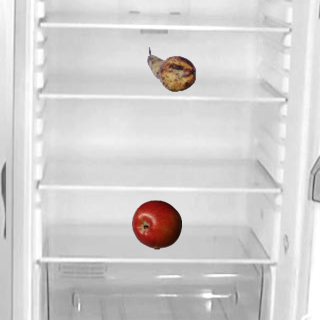Apple Braeburn: (131, 199, 181, 249)
Pear Abate: (146, 44, 196, 94)
